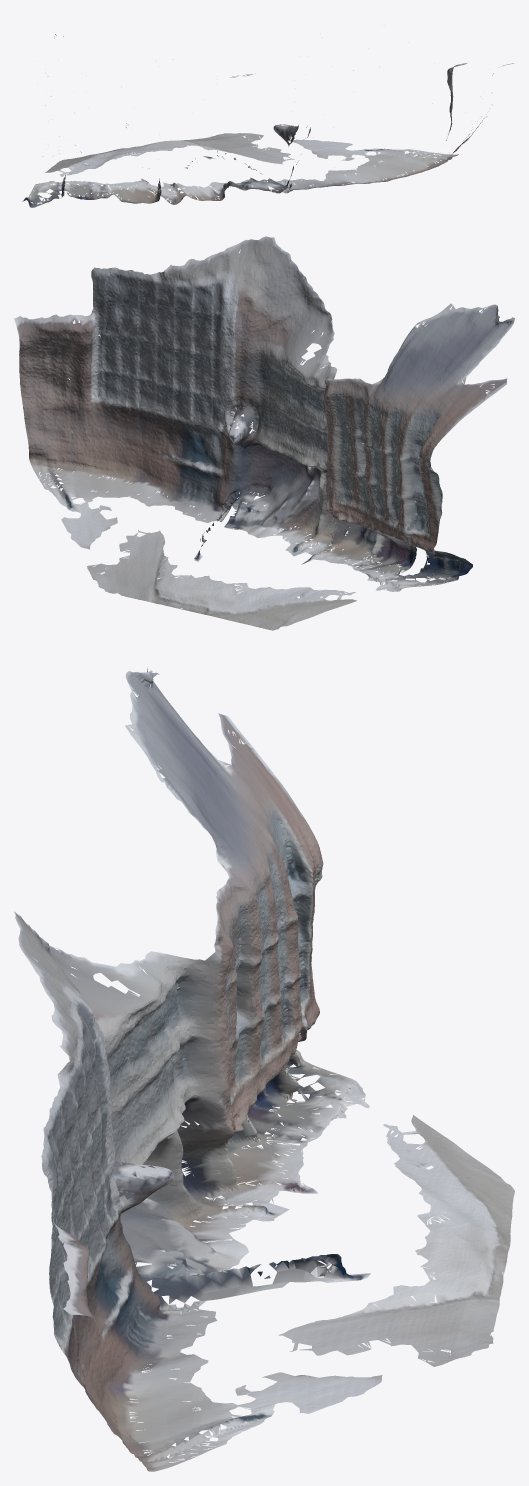
File: combined.glb
3 views of the same model, one above another, from view 1: azimuth 30°, elevation 25°; view 2: azimuth 150°, elevation 25°; view 3: azimuth 270°, elevation 25° (orthographic). The views are drawn at different scales.
Parts seen in each view (by area): view 1: cloud_mesh.ply; view 2: cloud_mesh.ply; view 3: cloud_mesh.ply.
Boxes of the visible parts, box(x1,y1,x2,y2) form: cloud_mesh.ply: box(22, 34, 514, 207); cloud_mesh.ply: box(14, 236, 514, 630); cloud_mesh.ply: box(14, 668, 514, 1471).
Bounding box in the file's own units: 10.39 × 5.02 × 5.08.
